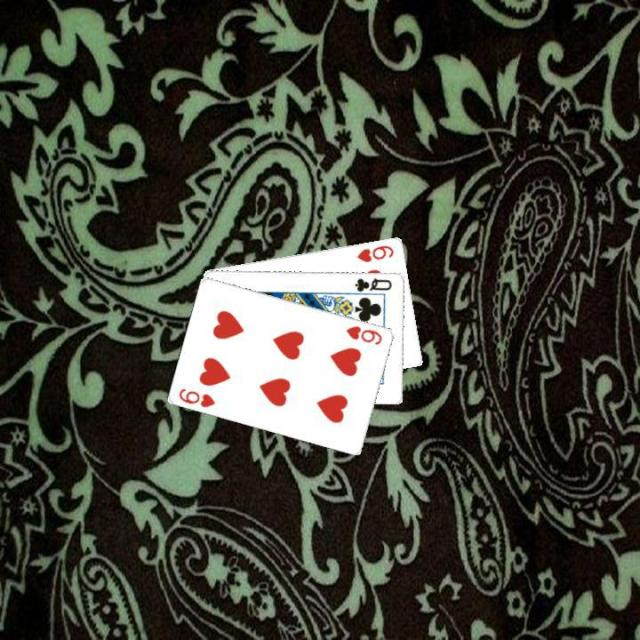6H: (175, 384, 217, 409), (342, 322, 384, 346), (354, 241, 396, 264)
QC: (351, 274, 394, 293)
